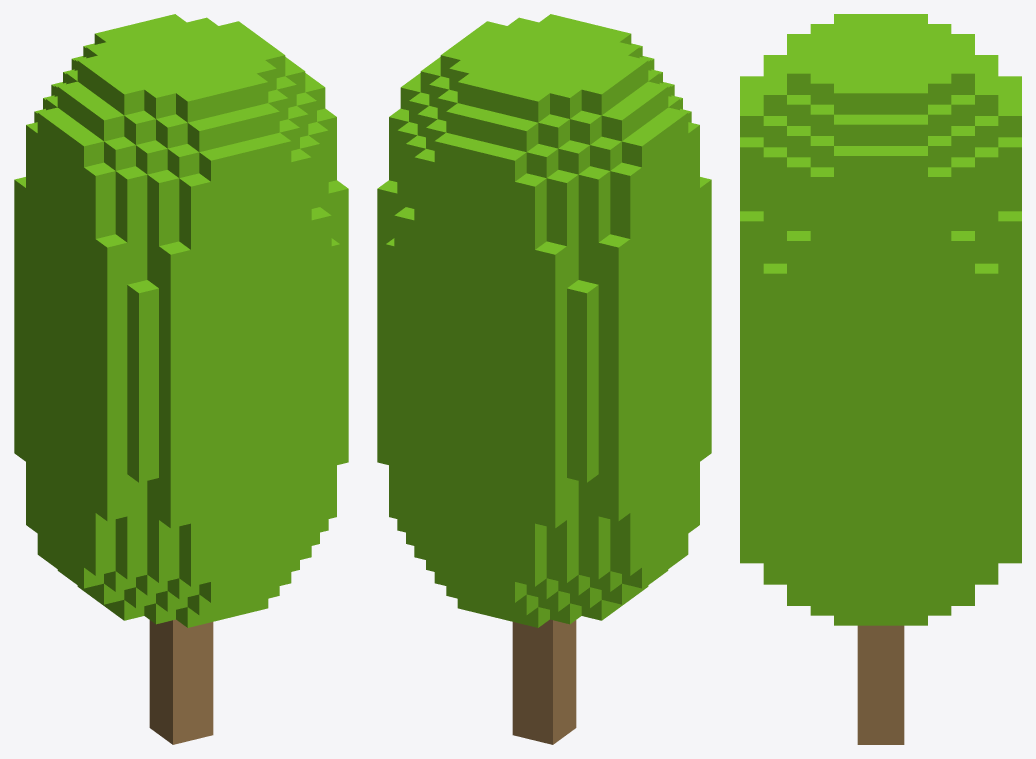
The model's file is Tree_1.obj.
3 renders of one model, left to right at view 1: azimuth 30°, elevation 25°; view 2: azimuth 150°, elevation 25°; view 3: azimuth 270°, elevation 25°, orthographic.
Size of the model in its own units: 1.2 by 3.2 by 1.2.
Materials: 1 (1 with a texture image).
